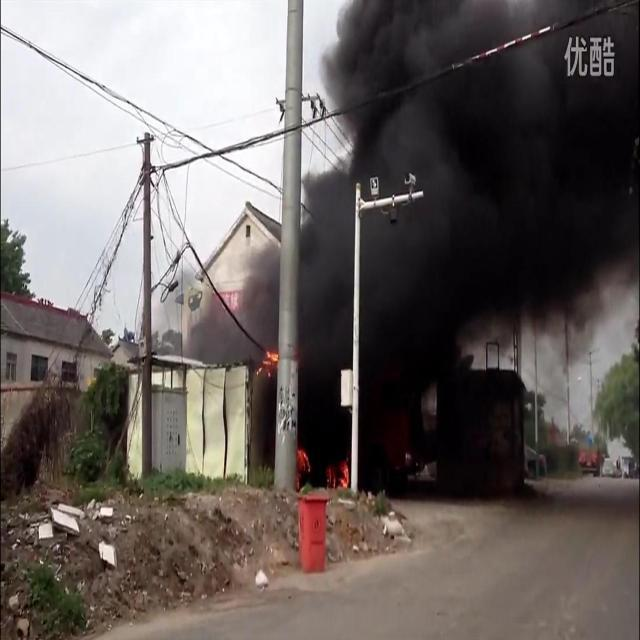Fire: (293, 443, 311, 493), (325, 455, 350, 491), (255, 348, 279, 379)
Smoke: (301, 0, 640, 454), (240, 226, 282, 348)
